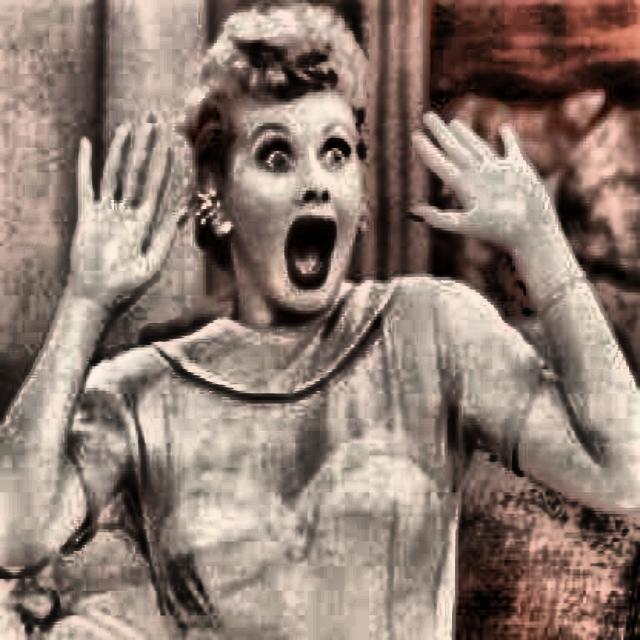surprised: (190, 1, 394, 344)
